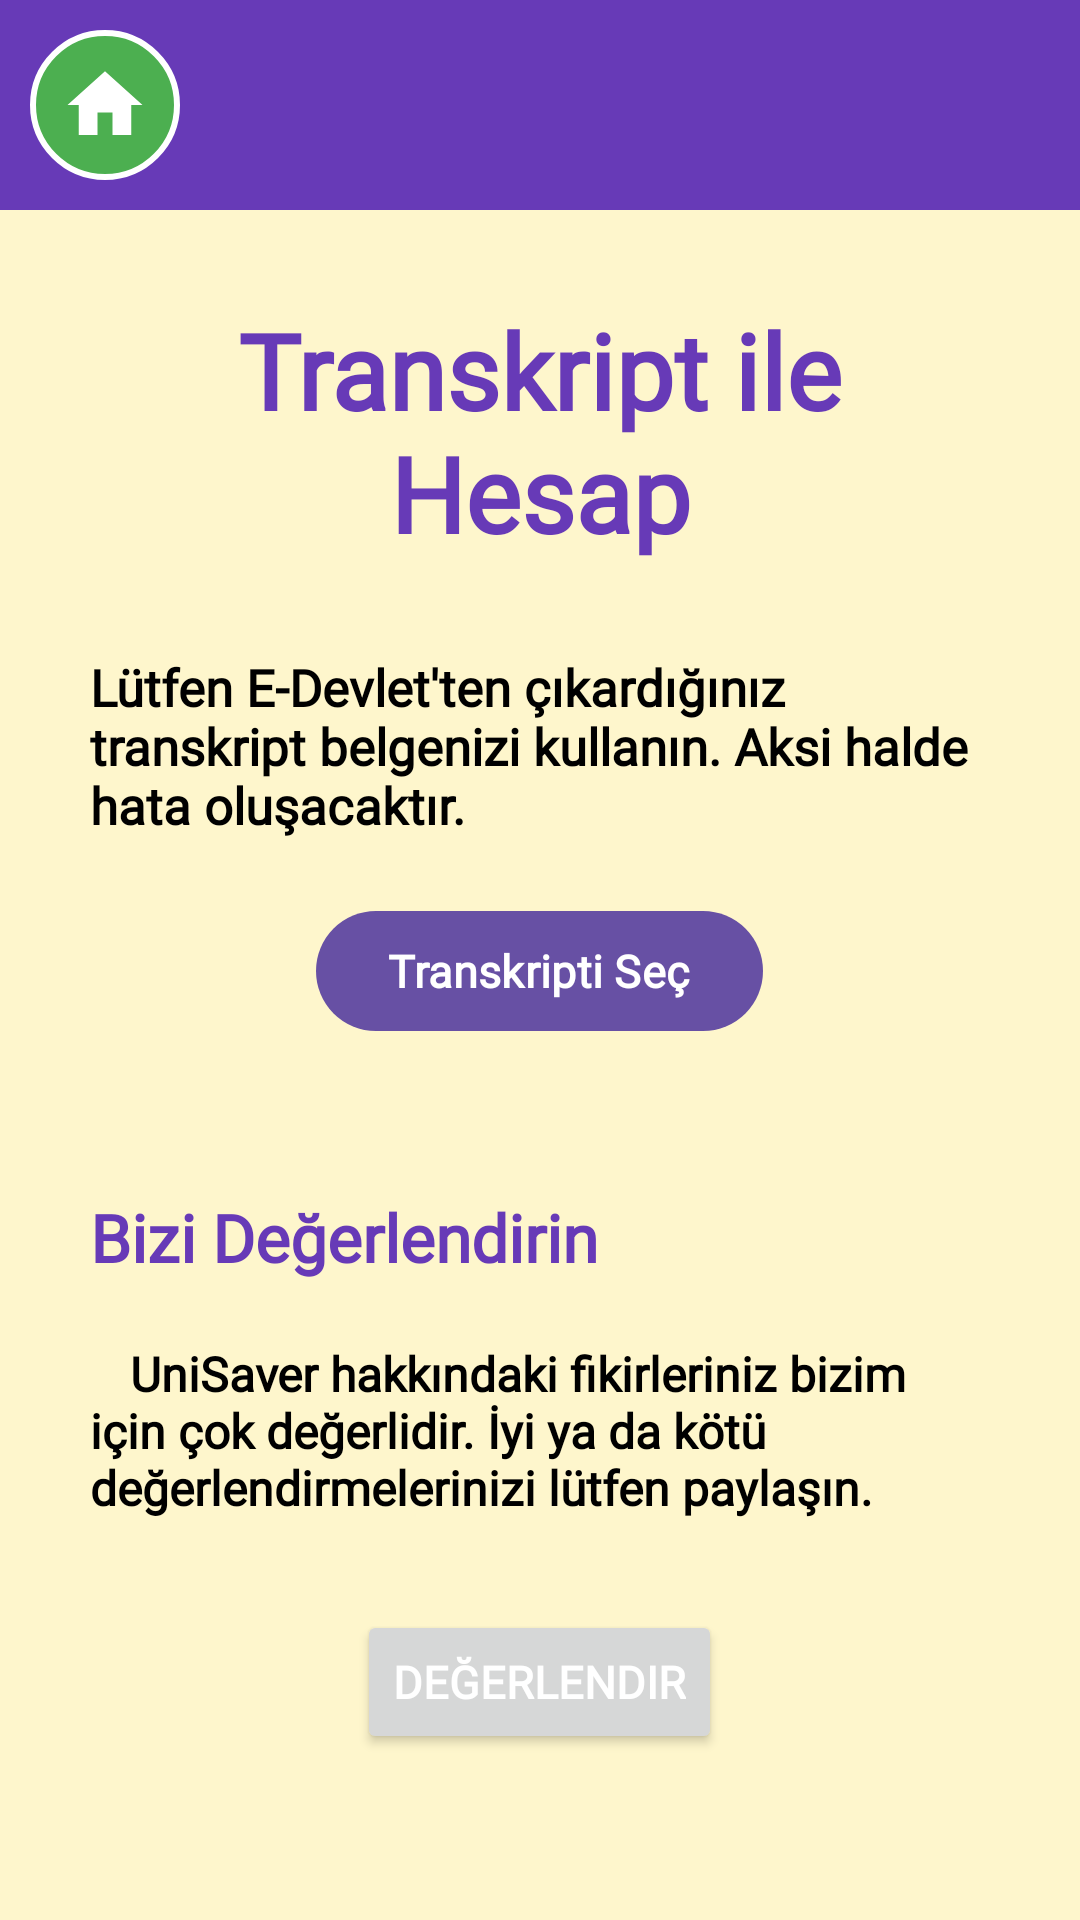

Point at icon controls on the screen. Image size 1080×1920, points as (x,y).
Ana Menüye Dönme Simgesi: (105,105)
